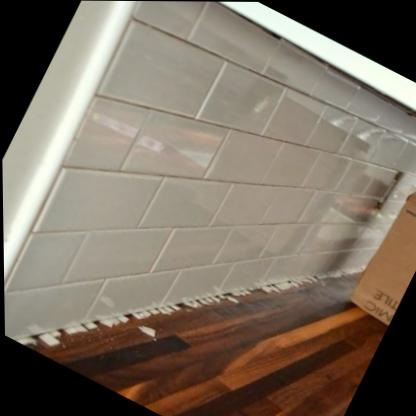Wooden floor: (10, 278, 387, 416)
